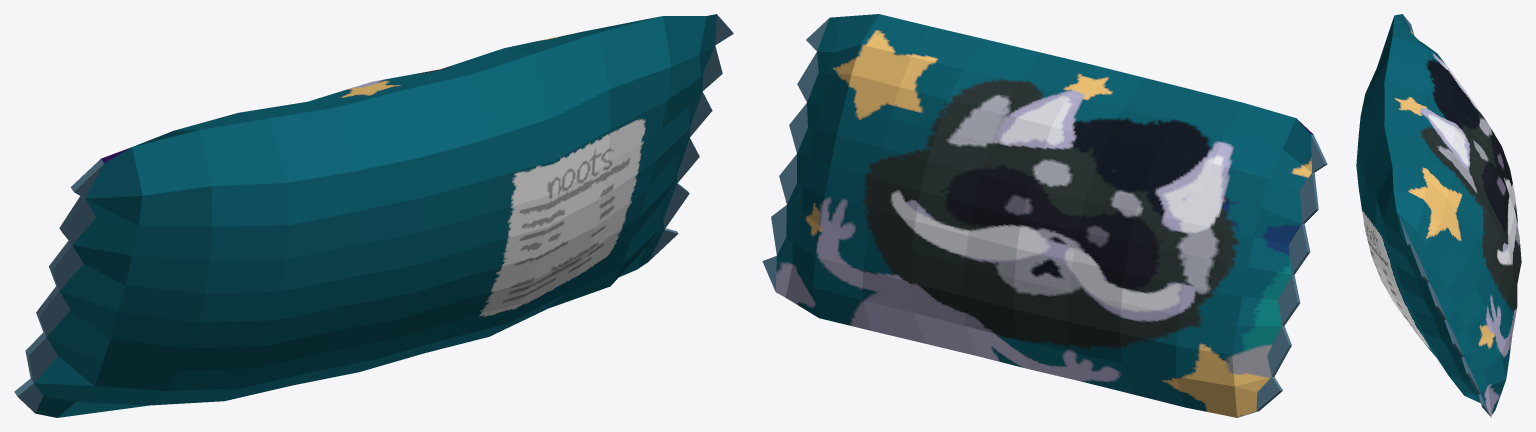
Rendered from BootlegSnack.RiceTrap.fbx.
The picture shows the model from 3 angles, left to right: view 1: azimuth 30°, elevation 25°; view 2: azimuth 150°, elevation 25°; view 3: azimuth 270°, elevation 25°; orthographic projection. The views are drawn at different scales.
Visible parts, largest first — view 1: BootlegSnack.RiceTrap; view 2: BootlegSnack.RiceTrap; view 3: BootlegSnack.RiceTrap.
Part boxes in pixels (box(x1,y1,x2,y2)): BootlegSnack.RiceTrap: box(14, 14, 733, 417); BootlegSnack.RiceTrap: box(762, 14, 1327, 417); BootlegSnack.RiceTrap: box(1356, 14, 1521, 417).
Size of the model in its own units: 79.42 by 38.18 by 25.6.
